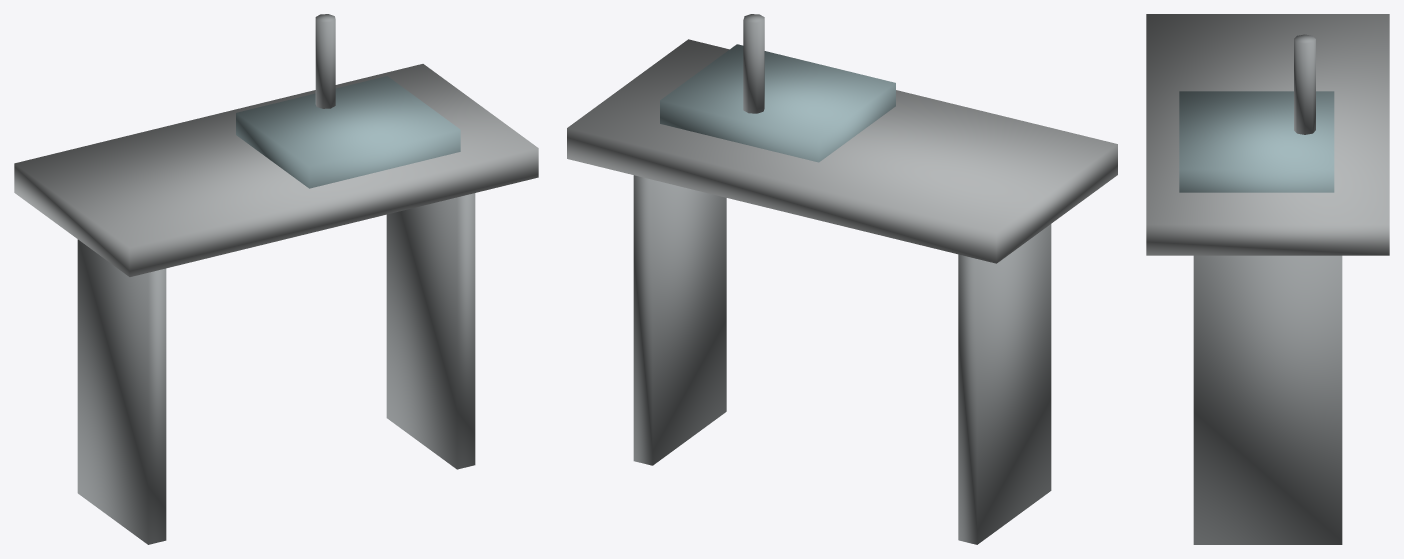
Rendered from lab_sink_bench__tall.glb.
The picture shows the model from 3 angles, left to right: view 1: azimuth 30°, elevation 25°; view 2: azimuth 150°, elevation 25°; view 3: azimuth 270°, elevation 25°; orthographic projection. The views are drawn at different scales.
Parts seen in each view (by area): view 1: world; view 2: world; view 3: world.
Boxes of the visible parts, x1,y1,x2,y2 form: world: (14, 14, 538, 544); world: (567, 14, 1117, 544); world: (1146, 14, 1389, 544).
Bounding box in the file's own units: 1.35 × 1.36 × 0.66.
